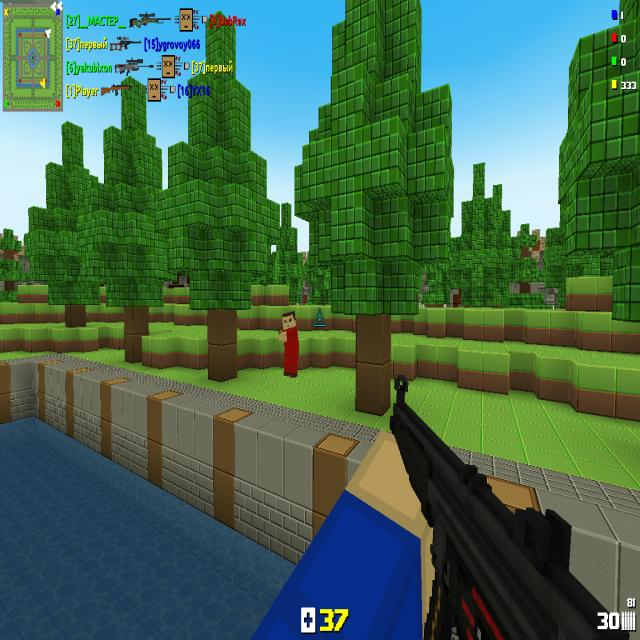enemy: (278, 311, 299, 378)
